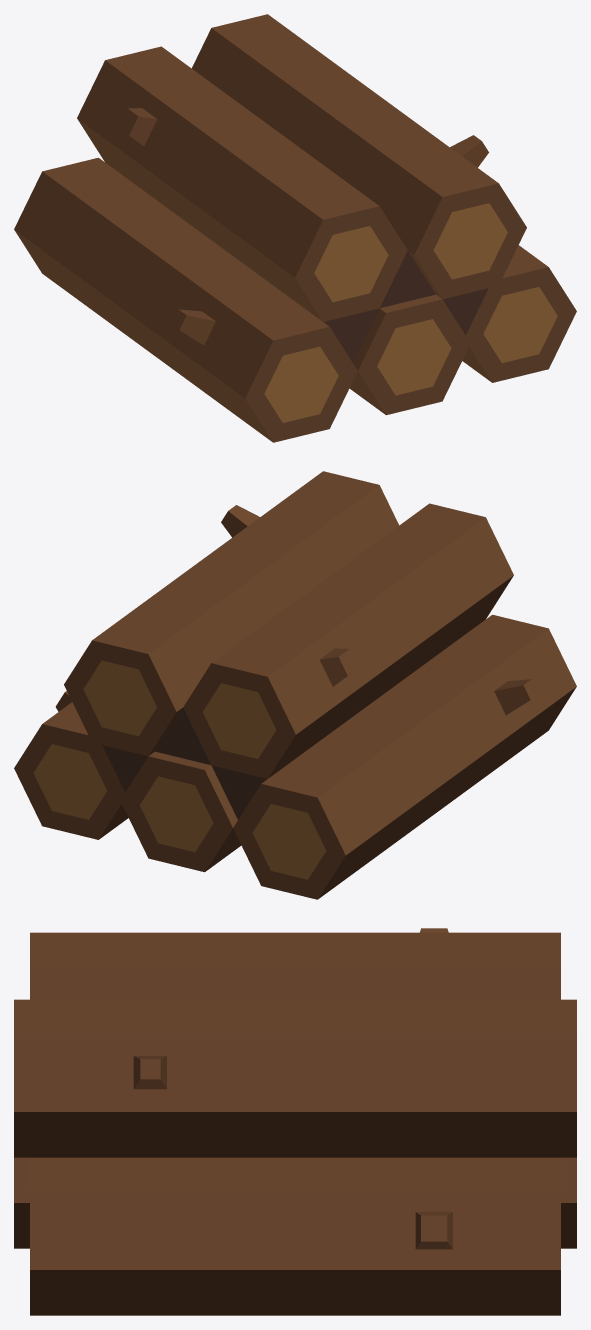
Rendered from log_stack_large.glb.
3 renders of one model, top to bottom at view 1: azimuth 30°, elevation 25°; view 2: azimuth 150°, elevation 25°; view 3: azimuth 270°, elevation 25°, orthographic. The views are drawn at different scales.
Parts seen in each view (by area): view 1: log_stackLarge; view 2: log_stackLarge; view 3: log_stackLarge.
Boxes of the visible parts, x1,y1,x2,y2 form: log_stackLarge: (14,14,576,442); log_stackLarge: (14,471,576,899); log_stackLarge: (14,928,576,1315).
Size of the model in its own units: 0.634 by 0.3464 by 0.71.
